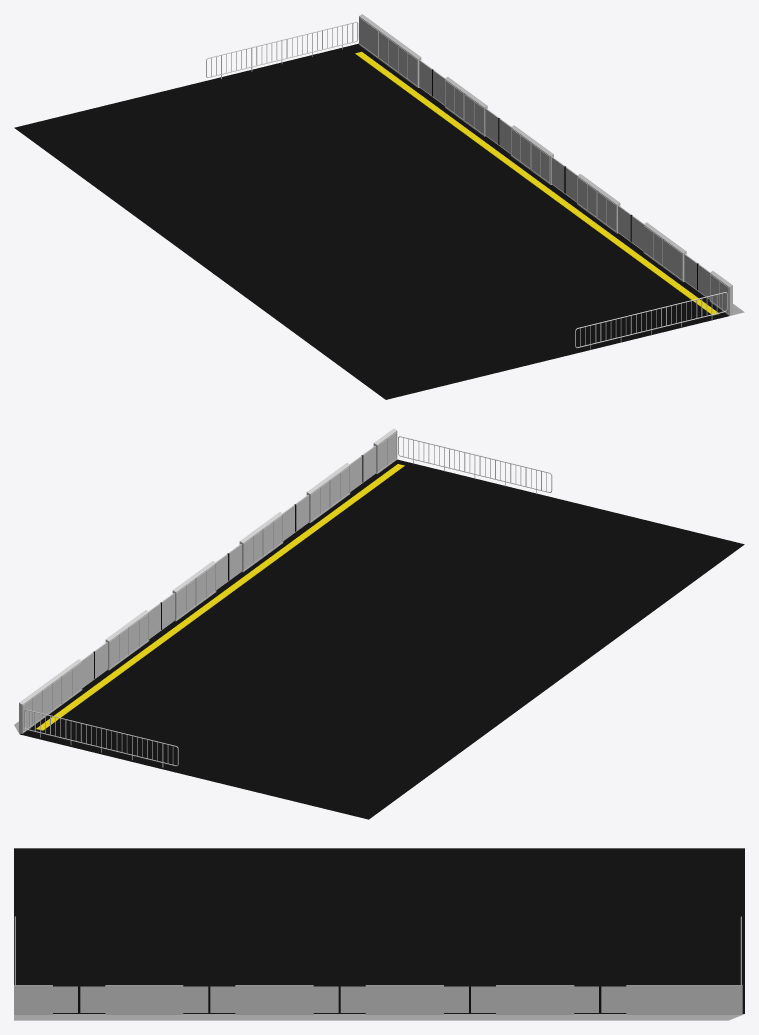
The model's file is station 1.fbx.
3 renders of one model, top to bottom at view 1: azimuth 30°, elevation 25°; view 2: azimuth 150°, elevation 25°; view 3: azimuth 270°, elevation 25°, orthographic. The views are drawn at different scales.
Parts seen in each view (by area): view 1: ホームドア_壁_short2, ホームドア_ドア_左, ホームドア_ドア_右; view 2: ホームドア_壁_short2, ホームドア_ドア_右, ホームドア_ドア_左; view 3: ホームドア_壁_short2, ホームドア_ドア_左, ホームドア_ドア_右.
Part boxes in pixels (box(x1,y1,x2,y2)): ホームドア_壁_short2: box(14, 14, 744, 399); ホームドア_ドア_左: box(419, 60, 697, 289); ホームドア_ドア_右: box(432, 69, 709, 298); ホームドア_壁_short2: box(14, 428, 744, 819); ホームドア_ドア_右: box(93, 446, 375, 678); ホームドア_ドア_左: box(82, 455, 362, 687); ホームドア_壁_short2: box(14, 848, 744, 1020); ホームドア_ドア_左: box(79, 986, 626, 1012); ホームドア_ドア_右: box(53, 986, 600, 1012).
Bounding box in the file's own units: 1565 × 127 × 2806.
1 material, 1 textured.
